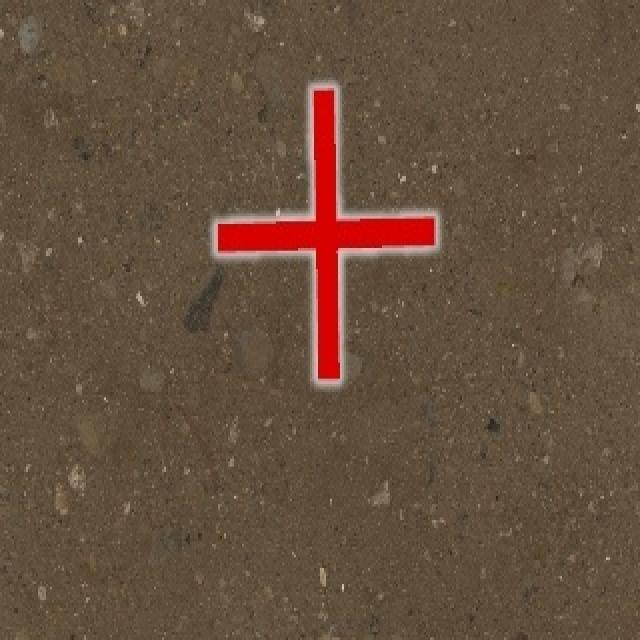x_marker: (215, 87, 435, 380)
